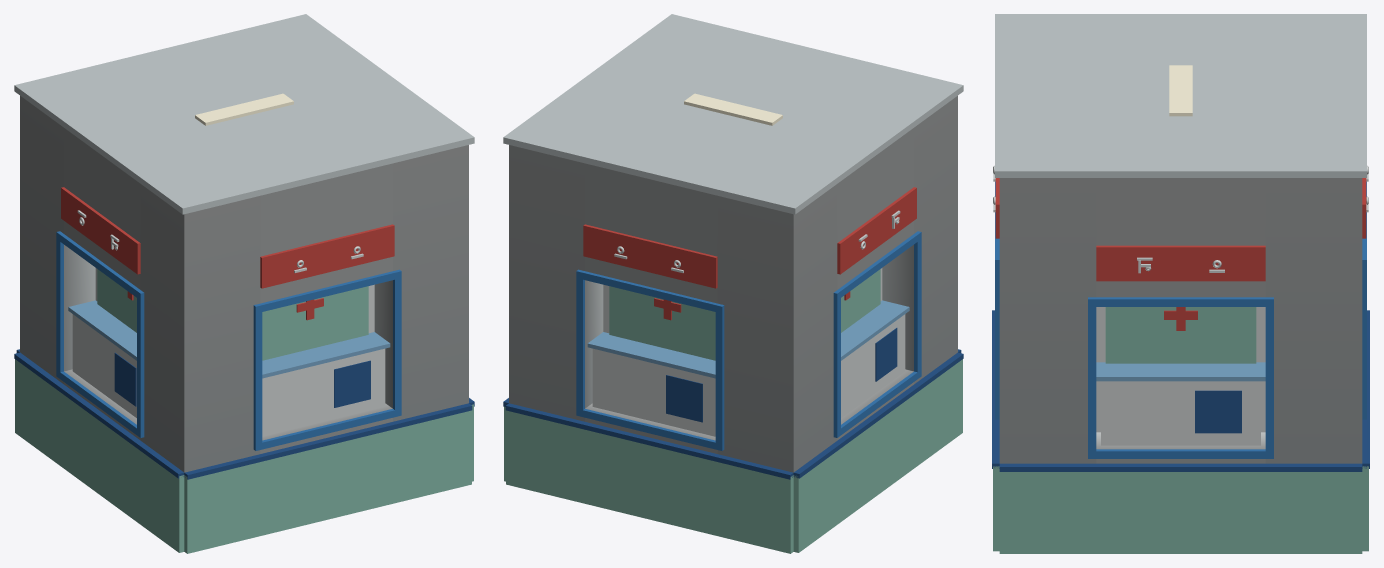
File: wall_c.fbx
3 views of the same model, side by side, from view 1: azimuth 30°, elevation 25°; view 2: azimuth 150°, elevation 25°; view 3: azimuth 270°, elevation 25° (orthographic). The views are drawn at different scales.
Visible parts, largest first — view 1: wall_c; view 2: wall_c; view 3: wall_c.
Part boxes in pixels (x1=…): wall_c: x1=14, y1=14, x2=474, y2=553; wall_c: x1=503, y1=14, x2=963, y2=553; wall_c: x1=992, y1=14, x2=1369, y2=553.
Bounding box in the file's own units: 4 × 4.5 × 4.
